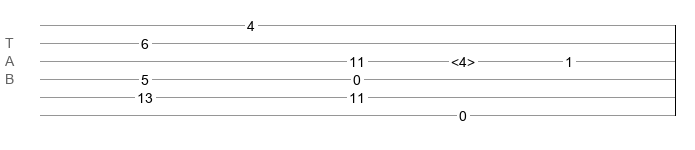0: (353, 72, 361, 82), (459, 108, 467, 118)
1: (565, 54, 573, 64)
11: (349, 54, 365, 64), (349, 90, 365, 100)
13: (137, 90, 153, 100)
4: (247, 18, 255, 28)
5: (141, 72, 149, 82)
6: (141, 36, 149, 46)
harmonic: (451, 54, 475, 64)
